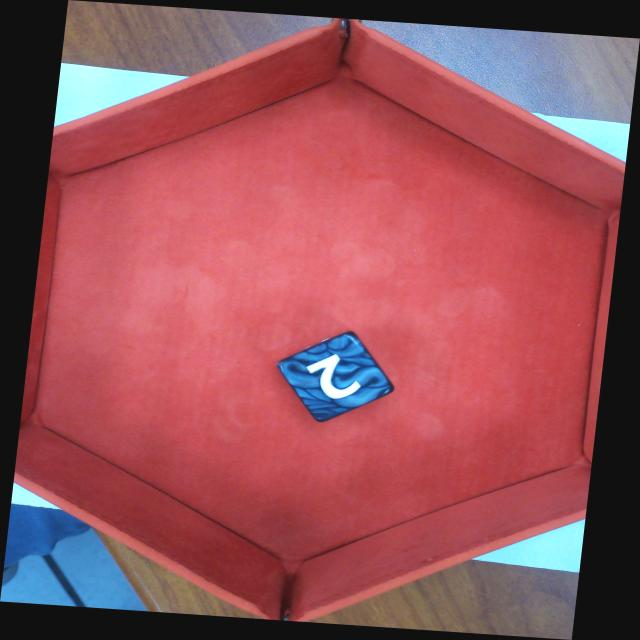dice: (276, 329, 397, 424)
